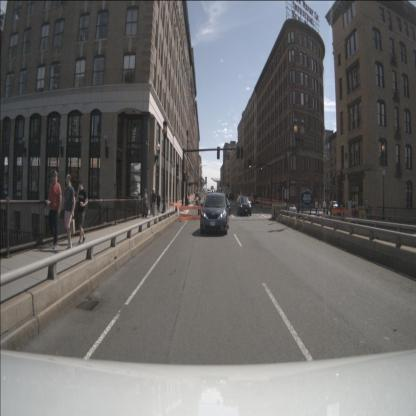barrier: (358, 211, 367, 221)
cone: (370, 205, 378, 222), (317, 207, 320, 216), (325, 209, 328, 218)
